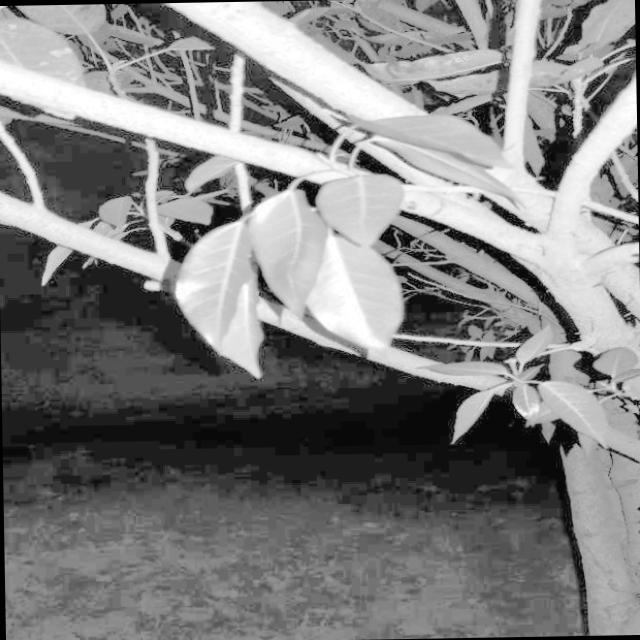Tree: (155, 0, 640, 640)
